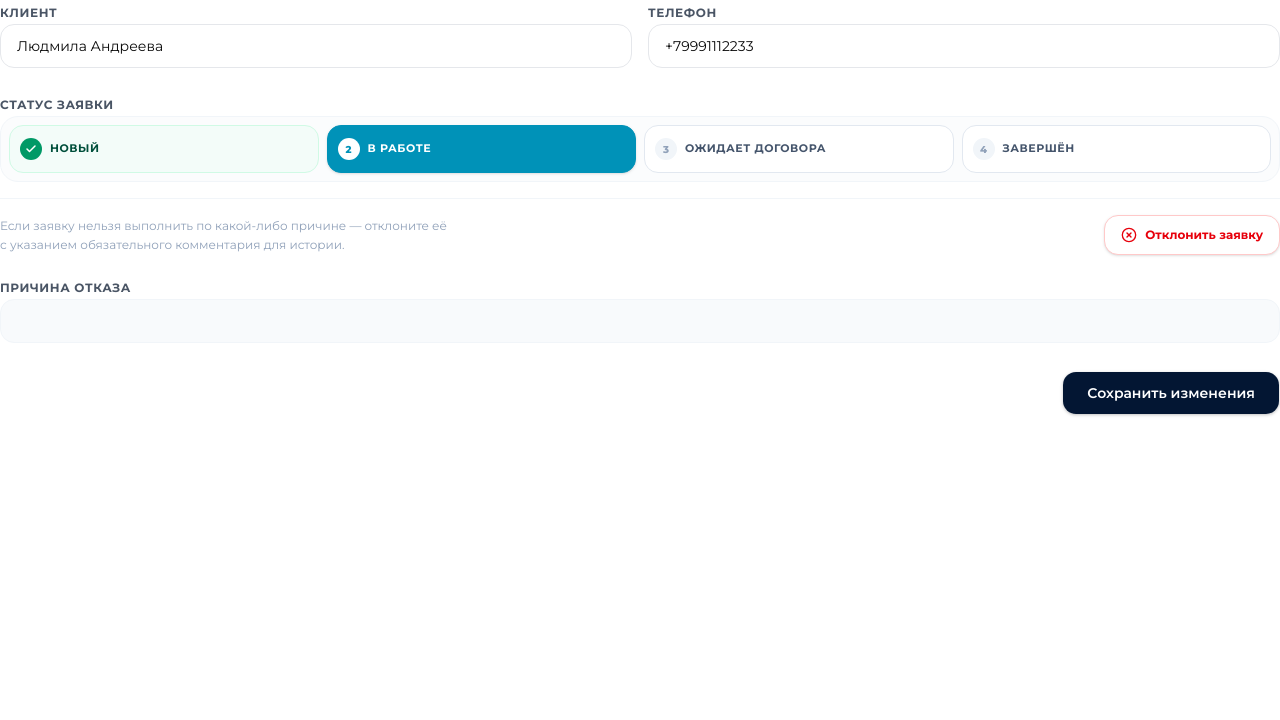
it: OrderManageForm › закрывает модалку при валидной причине
Click the button "Отклонить заявку" at [1192, 235], box [1104,215,1279,255]
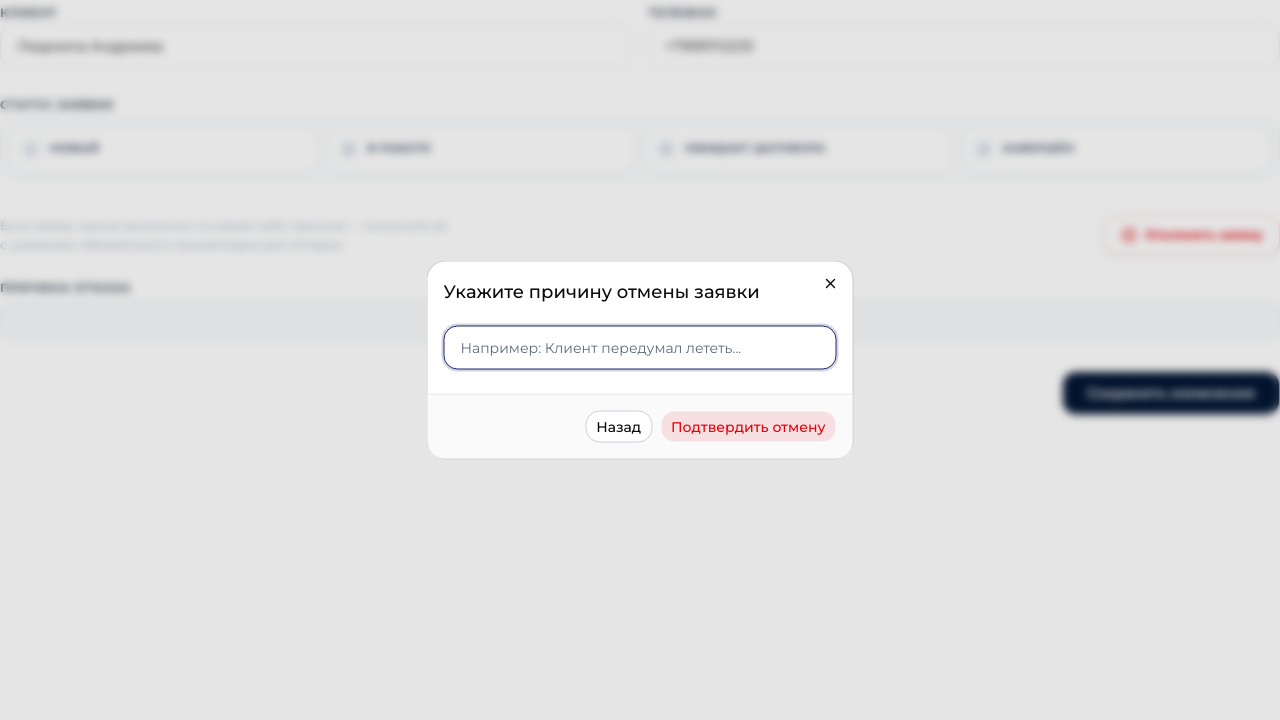
Type "Нет мест" into the field with placeholder "Например: Клиент передумал лететь..." at [640, 348], box [444,326,836,370]
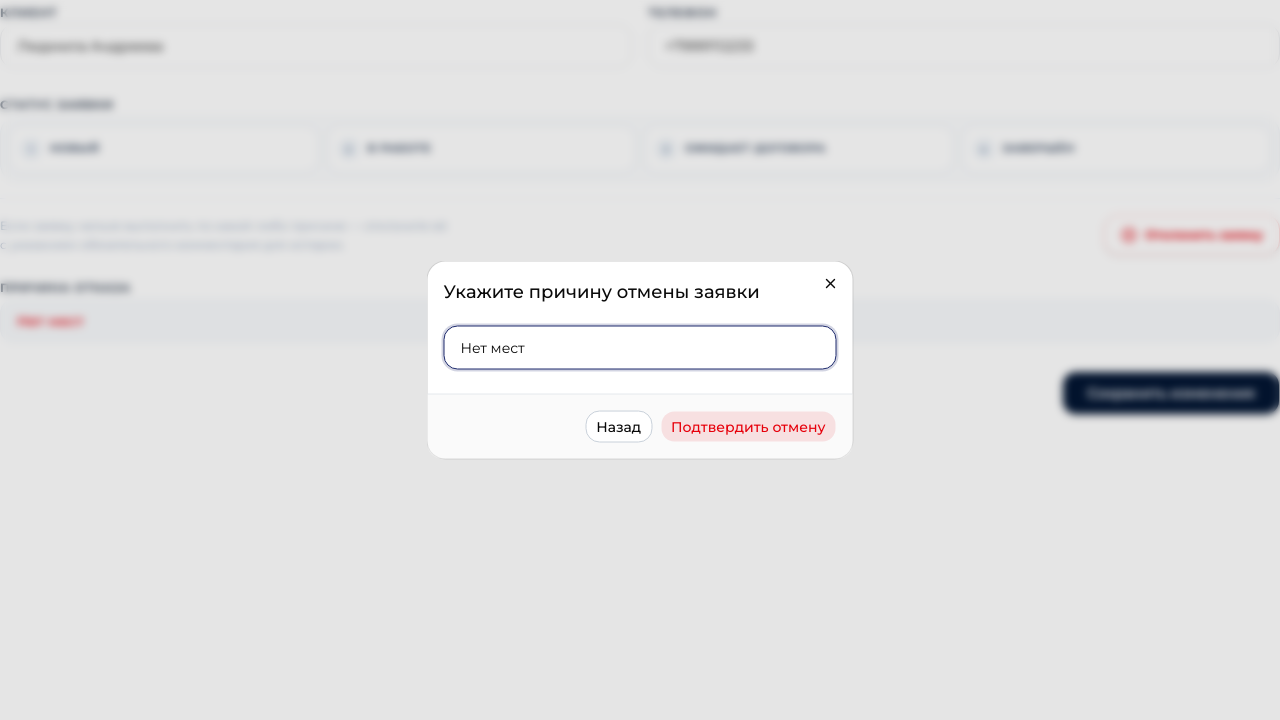
Click the button "Подтвердить отмену" at [748, 426], box [660,410,836,442]
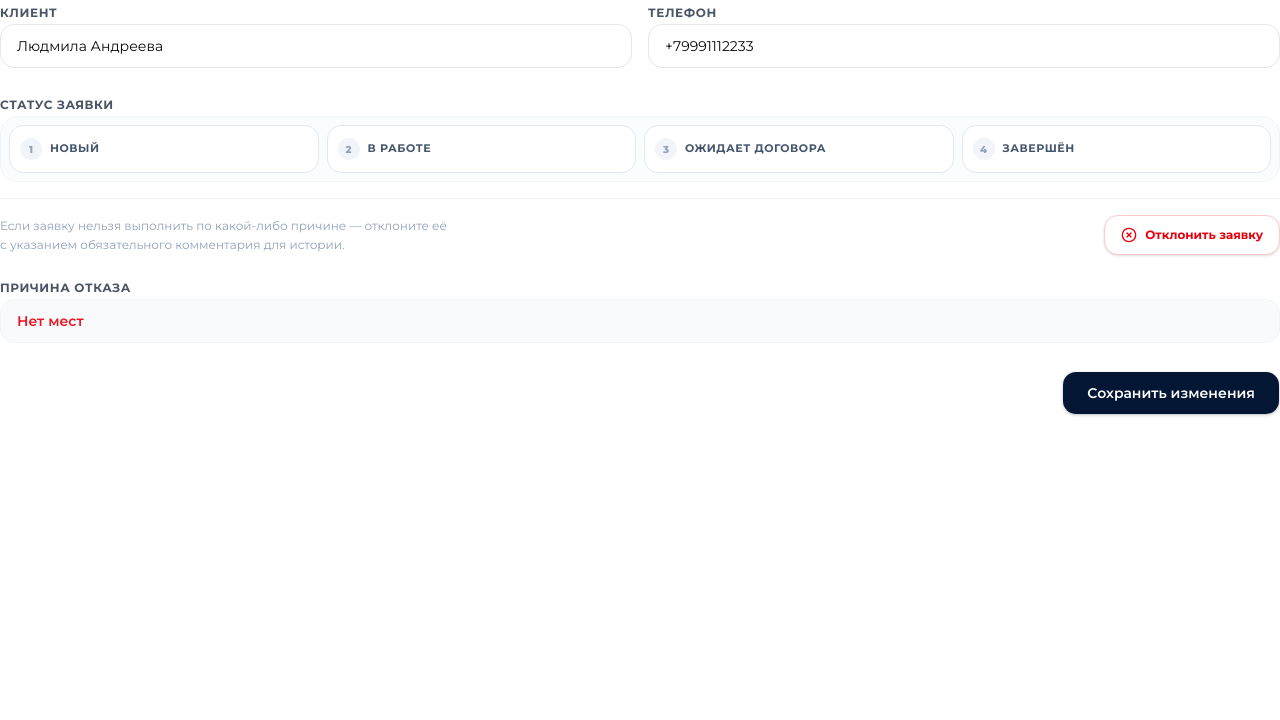
Expected: the heading "Укажите причину отмены заявки" is gone
